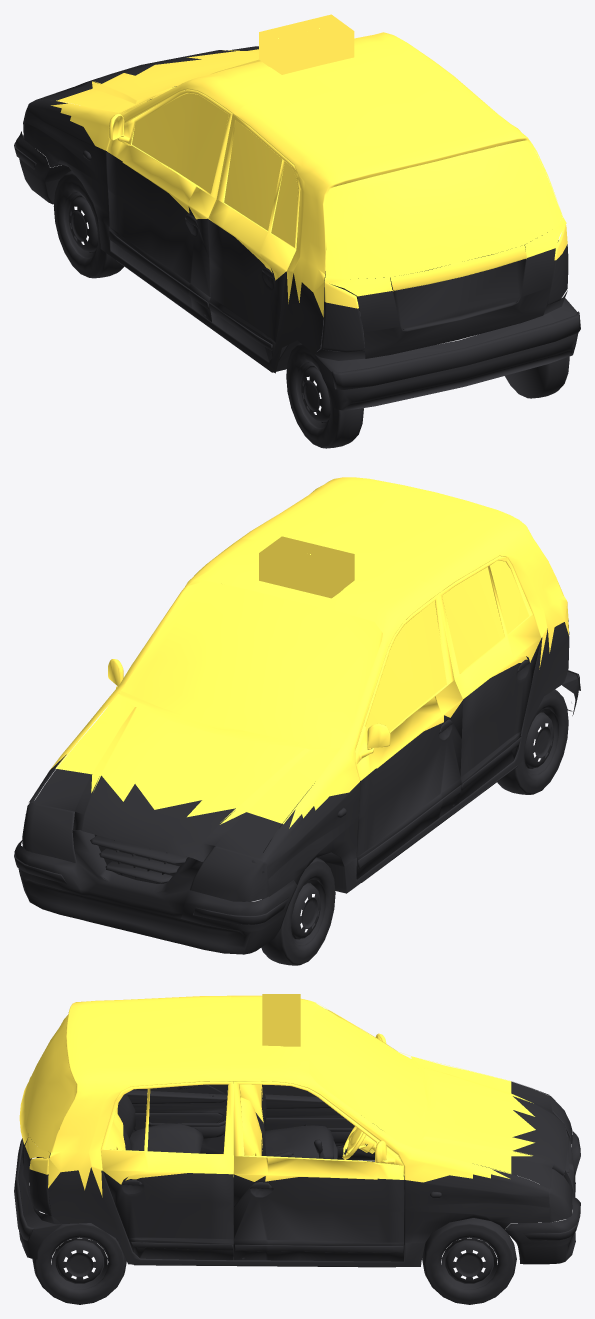
File: mumbai_santro_taxi.glb
3 renders of one model, top to bottom at view 1: azimuth 30°, elevation 25°; view 2: azimuth 150°, elevation 25°; view 3: azimuth 270°, elevation 25°, orthographic. The views are drawn at different scales.
Visible parts, largest first — view 1: Santro_Kaali_Peeli_Taxi; view 2: Santro_Kaali_Peeli_Taxi; view 3: Santro_Kaali_Peeli_Taxi.
Part boxes in pixels (left/top/right/bottom): Santro_Kaali_Peeli_Taxi: left=14, top=14, right=580, bottom=448; Santro_Kaali_Peeli_Taxi: left=14, top=477, right=580, bottom=965; Santro_Kaali_Peeli_Taxi: left=14, top=994, right=580, bottom=1304.
Bounding box in the file's own units: 1.7 × 1.74 × 3.56.
